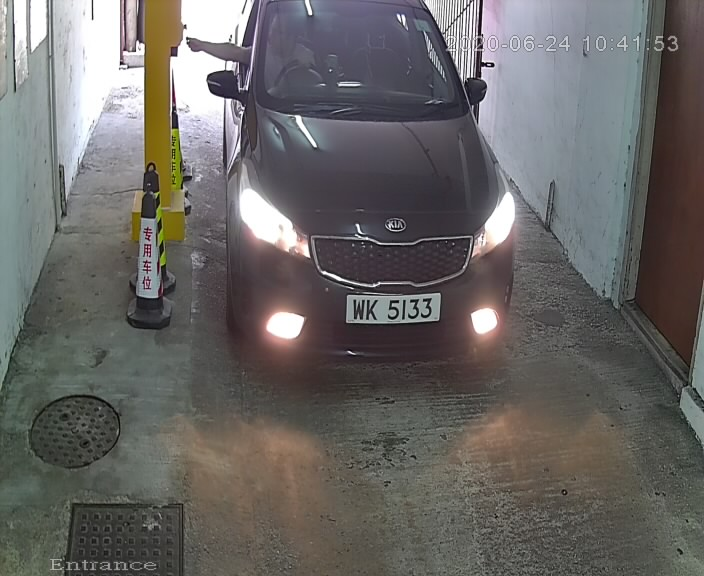Car: (180, 1, 553, 421)
License Plate: (340, 290, 444, 328)
